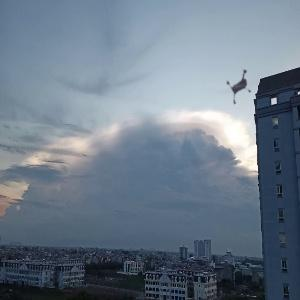drone: (220, 62, 260, 102)
